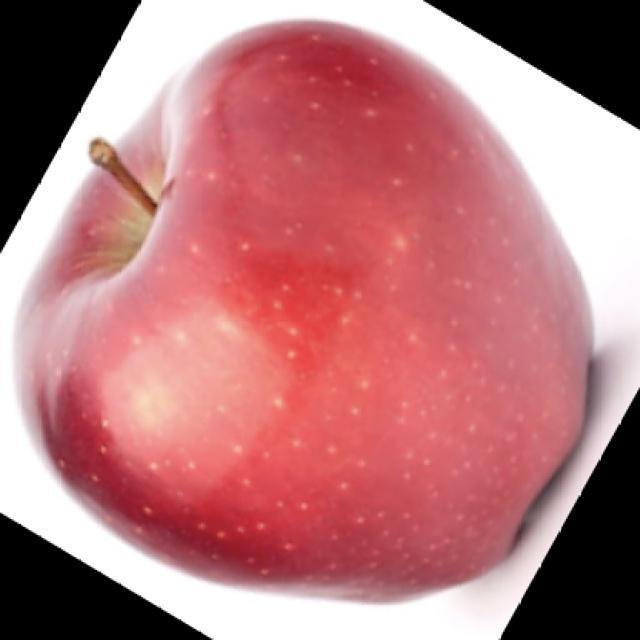Fresh Apple: (67, 25, 585, 580)
